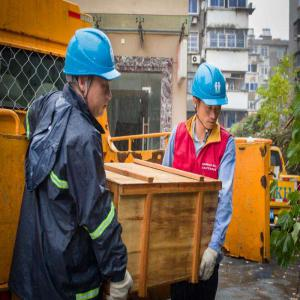blue: (65, 29, 114, 117), (191, 64, 228, 128)
